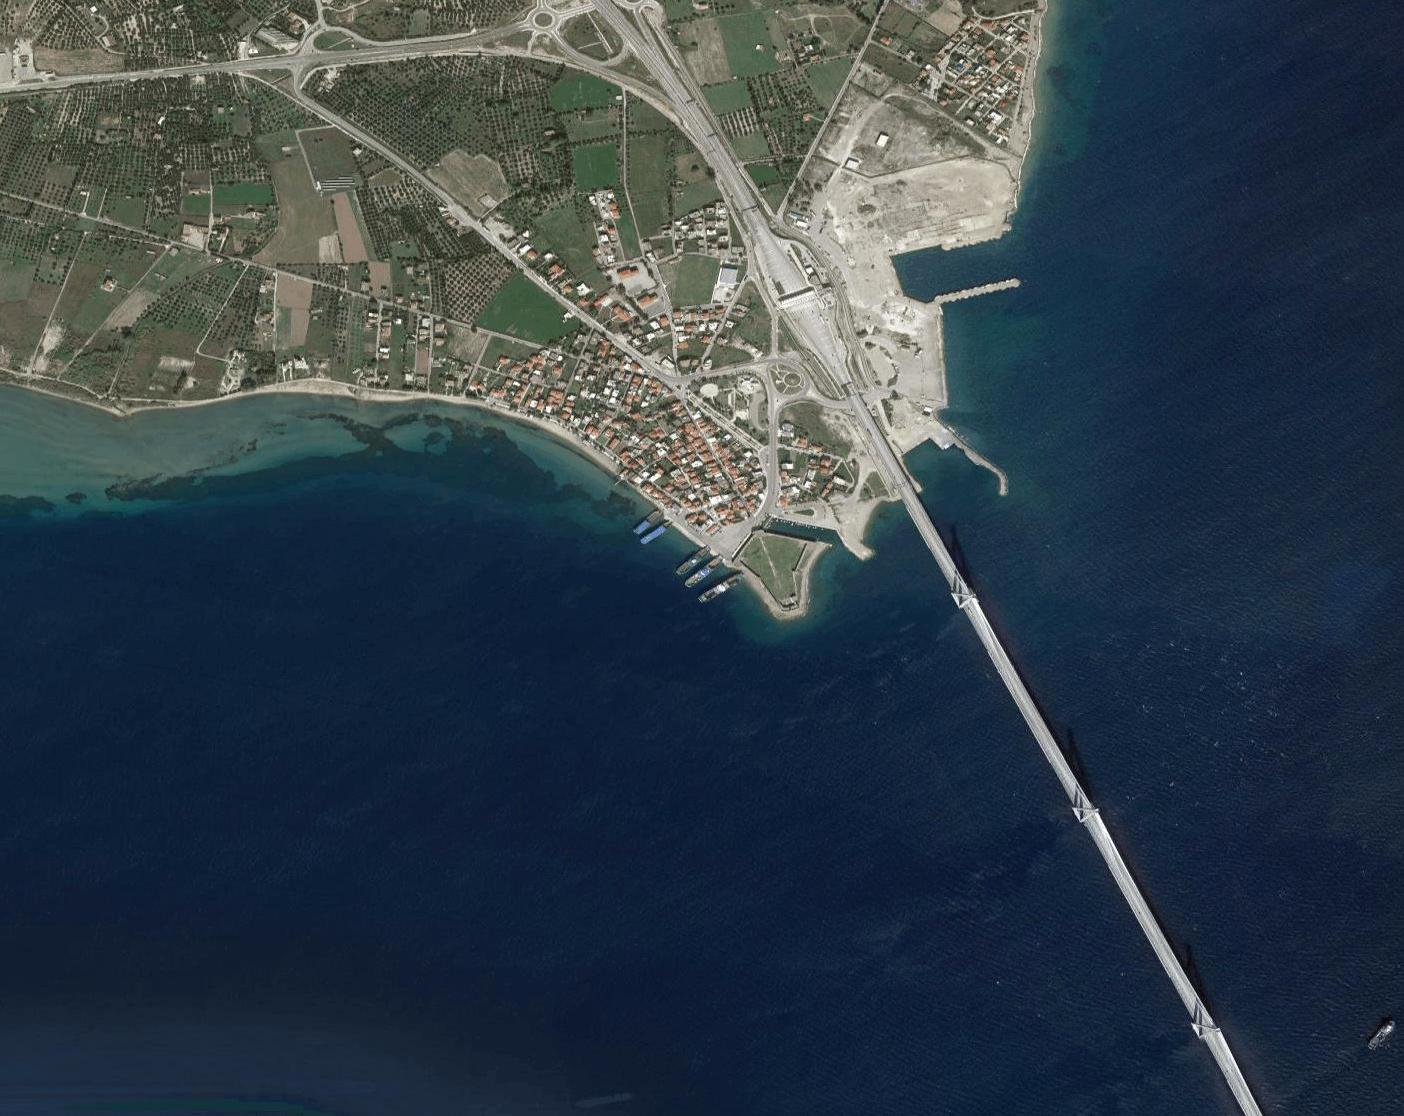bridge: (920, 518, 1264, 1116)
harbor: (613, 502, 766, 637)
motorway: (906, 504, 1064, 741), (765, 274, 923, 510), (1039, 739, 1197, 975), (656, 85, 797, 277), (289, 85, 452, 204), (449, 199, 603, 321), (1169, 974, 1293, 1116), (506, 1, 678, 92), (251, 36, 501, 81), (1, 57, 250, 101)
